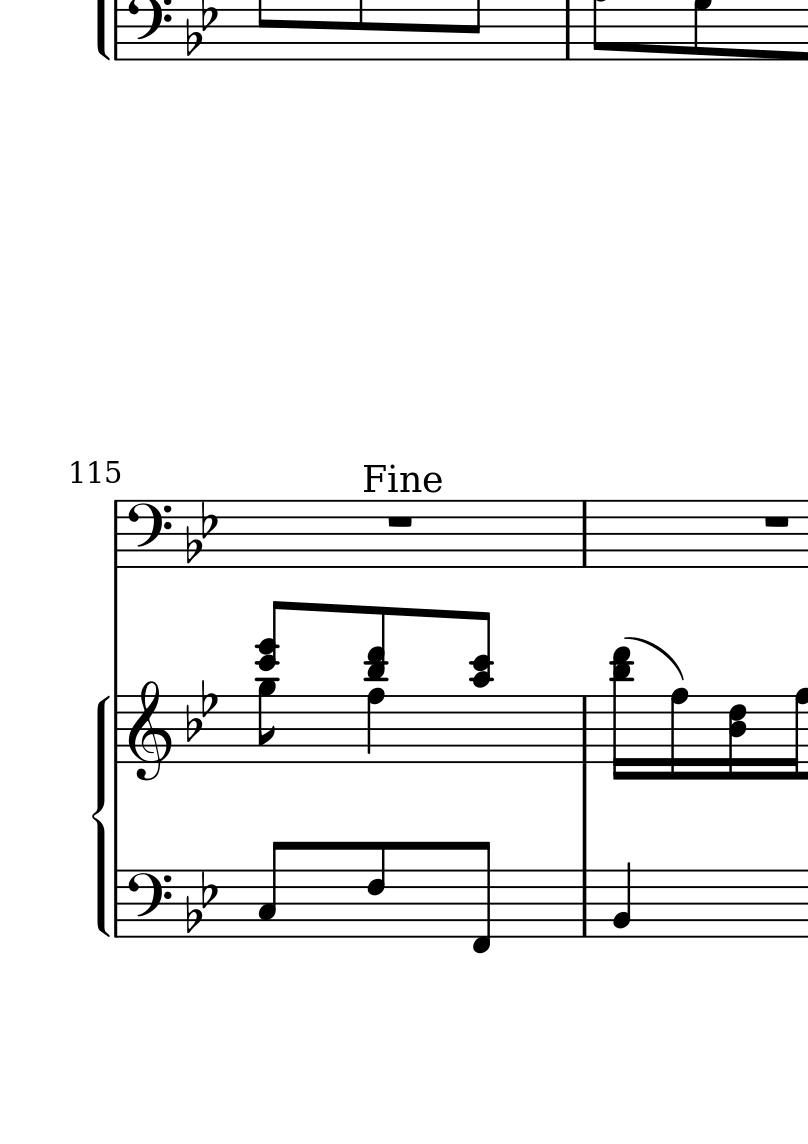1: (88, 458, 102, 487), (70, 458, 84, 487)
16_11_13: (609, 644, 634, 783)
16_4_6: (725, 693, 746, 781)
16_8: (668, 686, 691, 783)
4_2: (609, 859, 633, 942)
4_8: (365, 687, 387, 764)
5: (104, 458, 120, 486)
8_-1: (468, 838, 494, 955)
8_10_12: (468, 611, 496, 764)
8_3: (256, 839, 286, 938)
8_6: (365, 838, 388, 941)
8_9: (256, 678, 278, 764)
8_th: (255, 600, 292, 763)
B_F: (184, 870, 221, 930), (184, 498, 218, 563), (184, 681, 219, 744), (183, 1, 219, 58)
Brace: (91, 694, 110, 935)
Fclef: (126, 867, 176, 937), (128, 500, 172, 570)
Gclef: (126, 677, 179, 784)
Rests1: (763, 511, 795, 533), (384, 511, 417, 530)
Single_barline: (575, 870, 596, 937), (576, 696, 596, 763), (107, 501, 126, 567), (109, 870, 127, 938), (109, 696, 127, 764), (576, 500, 594, 567)
Slur: (628, 634, 686, 682)
